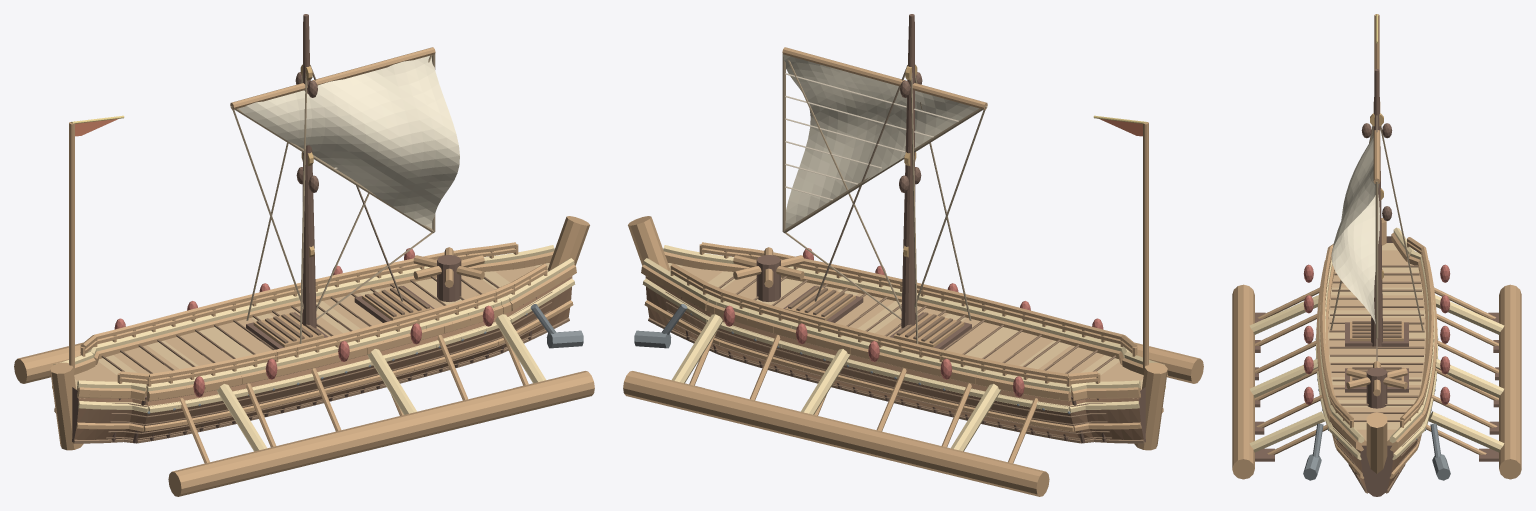
The model's file is prau-v5.glb.
3 views of the same model, side by side, from view 1: azimuth 30°, elevation 25°; view 2: azimuth 150°, elevation 25°; view 3: azimuth 270°, elevation 25° (orthographic). The views are drawn at different scales.
Visible parts, largest first — view 1: prau_sails_sail, prau_oars_wood, prau_hull_wood, prau_hull_pale, prau_railings_wood, prau_hull_seam, prau_hull_deck, prau_hull_hull, prau_hull_hull2, prau_oars_pale, prau_hull_decklight, prau_masts_darkwood (+10 smaller); view 2: prau_oars_wood, prau_sails_sail, prau_hull_wood, prau_hull_pale, prau_railings_wood, prau_hull_seam, prau_hull_deck, prau_hull_hull, prau_hull_hull2, prau_masts_darkwood, prau_oars_pale, prau_rigging_rope (+11 smaller); view 3: prau_oars_wood, prau_hull_deck, prau_sails_sail, prau_oars_pale, prau_hull_wood, prau_hull_seam, prau_hull_decklight, prau_railings_wood, prau_hull_pale, prau_masts_darkwood, prau_fittings_darkwood, prau_ornament_red (+9 smaller).
Part boxes in pixels (bbox=[...]): prau_sails_sail: bbox=[238, 55, 459, 228]; prau_oars_wood: bbox=[14, 266, 594, 496]; prau_hull_wood: bbox=[50, 216, 589, 450]; prau_hull_pale: bbox=[52, 245, 575, 412]; prau_railings_wood: bbox=[80, 242, 547, 395]; prau_hull_seam: bbox=[73, 276, 569, 443]; prau_hull_deck: bbox=[74, 266, 536, 383]; prau_hull_hull: bbox=[72, 286, 571, 442]; prau_hull_hull2: bbox=[74, 262, 572, 440]; prau_oars_pale: bbox=[217, 314, 545, 451]; prau_hull_decklight: bbox=[75, 263, 549, 398]; prau_masts_darkwood: bbox=[295, 14, 318, 328]; prau_oars_wood: bbox=[623, 266, 1203, 496]; prau_sails_sail: bbox=[783, 54, 978, 228]; prau_hull_wood: bbox=[628, 216, 1167, 450]; prau_hull_pale: bbox=[642, 245, 1165, 412]; prau_railings_wood: bbox=[670, 242, 1137, 395]; prau_hull_seam: bbox=[648, 276, 1144, 443]; prau_hull_deck: bbox=[681, 266, 1143, 383]; prau_hull_hull: bbox=[646, 286, 1145, 442]; prau_hull_hull2: bbox=[645, 262, 1143, 440]; prau_masts_darkwood: bbox=[899, 14, 922, 328]; prau_oars_pale: bbox=[672, 314, 1000, 451]; prau_rigging_rope: bbox=[782, 54, 986, 319]; prau_oars_wood: bbox=[1232, 284, 1521, 479]; prau_hull_deck: bbox=[1328, 250, 1425, 440]; prau_sails_sail: bbox=[1331, 126, 1379, 323]; prau_oars_pale: bbox=[1249, 295, 1504, 452]; prau_hull_wood: bbox=[1316, 218, 1437, 478]; prau_hull_seam: bbox=[1329, 265, 1424, 493]; prau_hull_decklight: bbox=[1328, 243, 1425, 429]; prau_railings_wood: bbox=[1320, 237, 1433, 427]; prau_hull_pale: bbox=[1316, 227, 1437, 459]; prau_masts_darkwood: bbox=[1361, 69, 1392, 346]; prau_fittings_darkwood: bbox=[1345, 322, 1408, 408]; prau_ornament_red: bbox=[1303, 264, 1450, 404].
Bounding box in the file's own units: 33.25 × 22.31 × 17.96.
